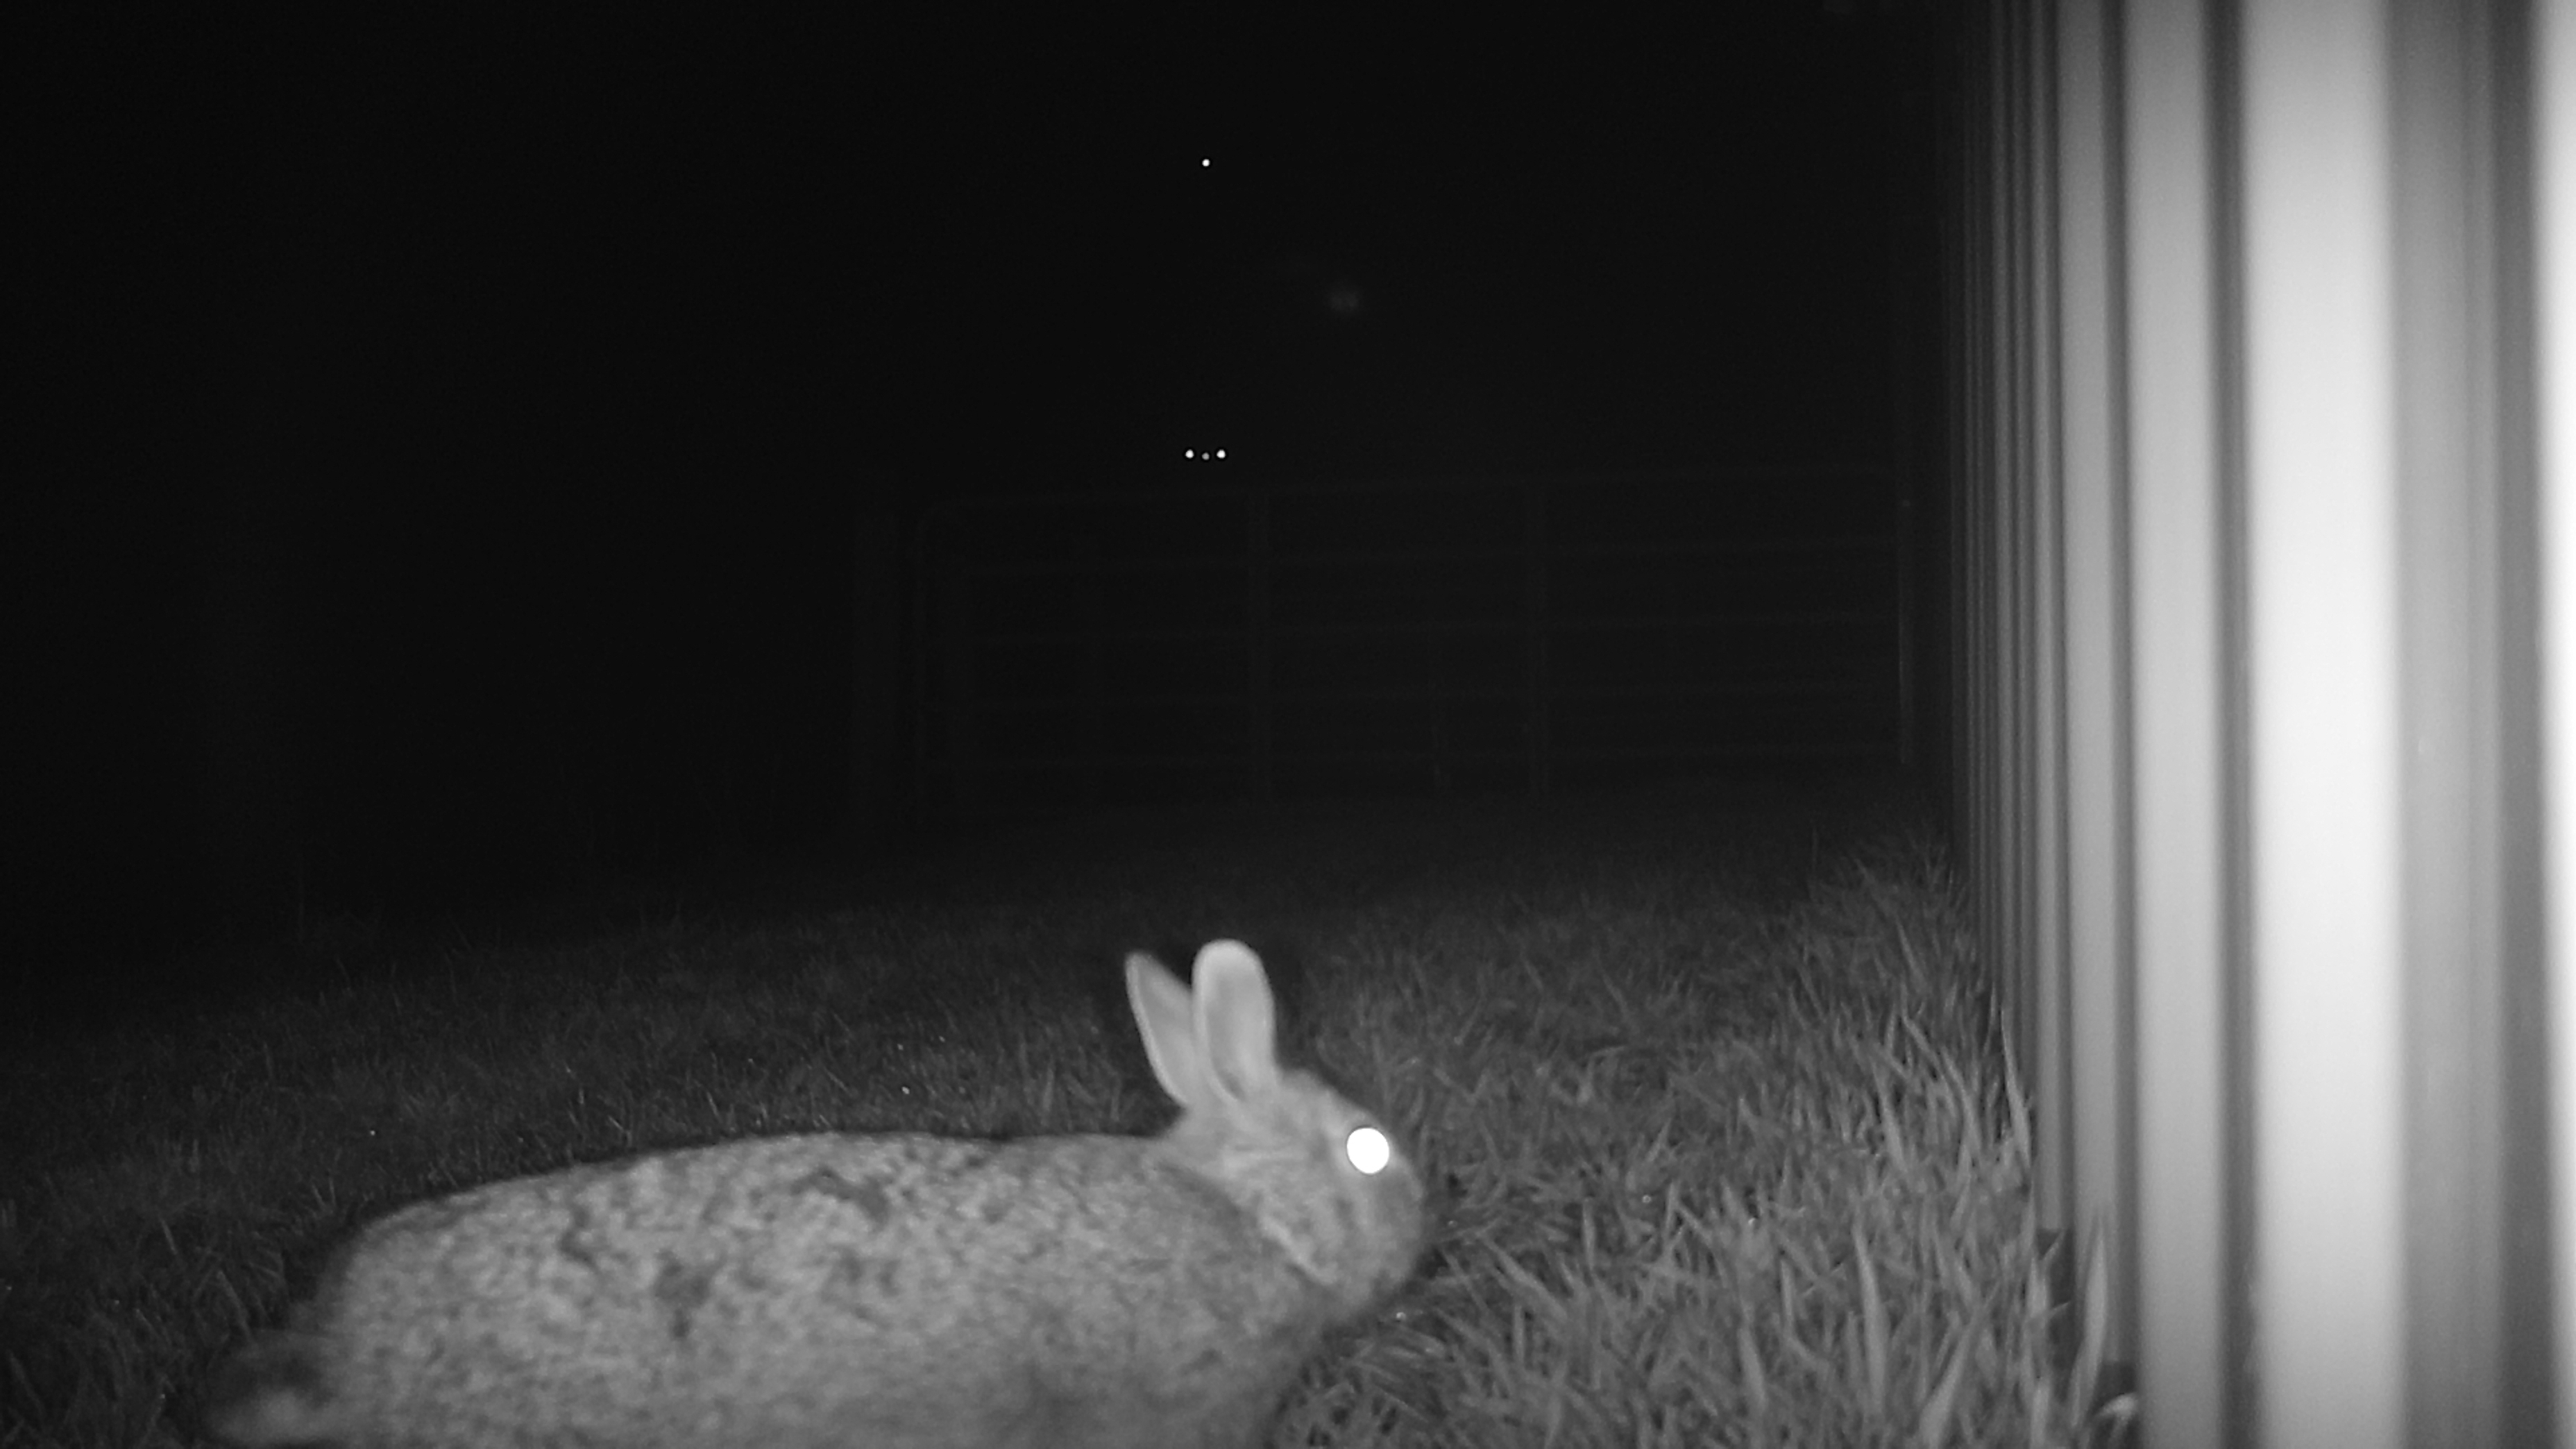Rabbit: (182, 925, 1440, 1444)
